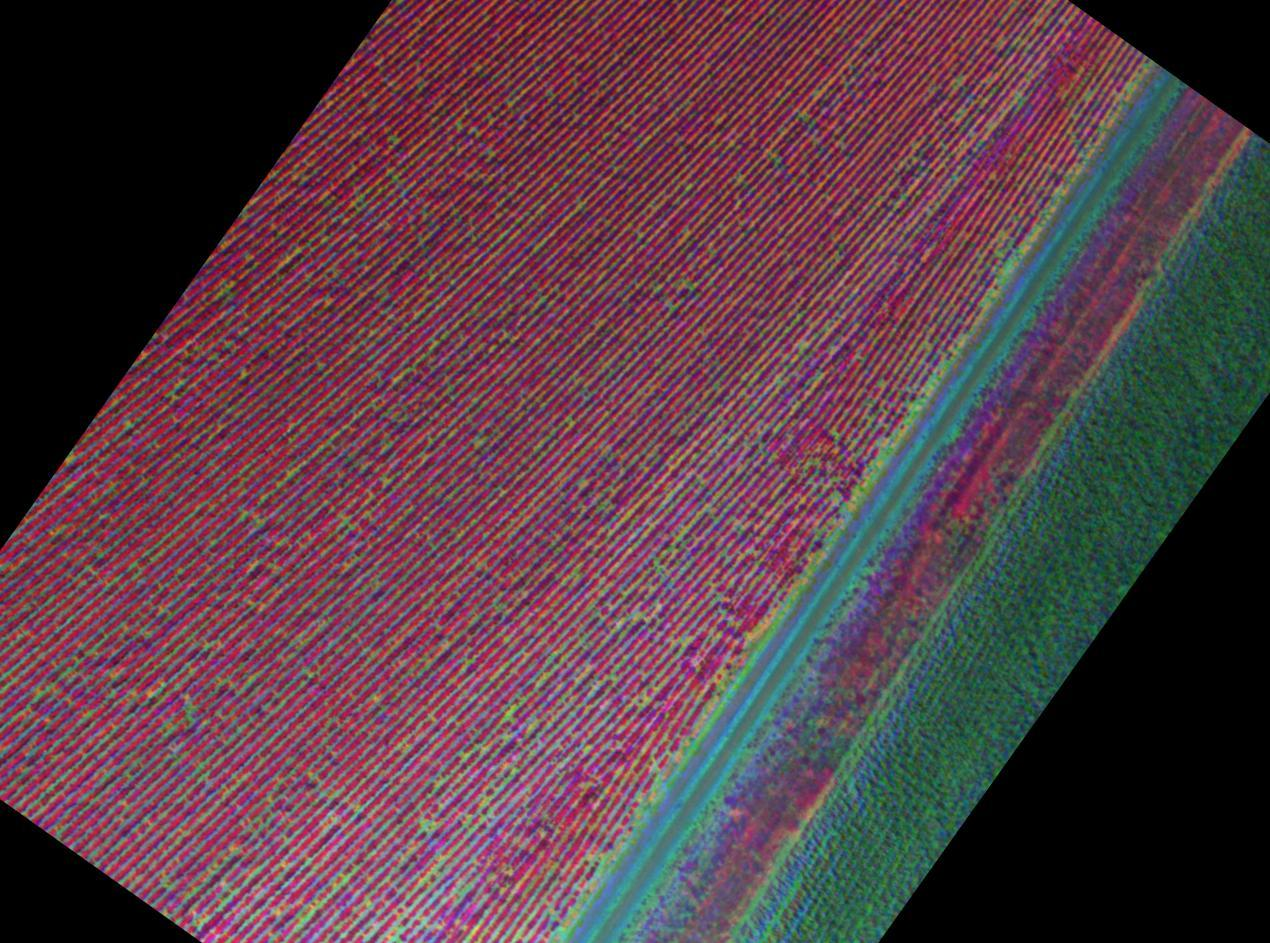dc: (801, 341, 807, 348), (579, 480, 585, 487), (682, 637, 688, 644), (1006, 262, 1012, 268), (423, 821, 429, 827)
